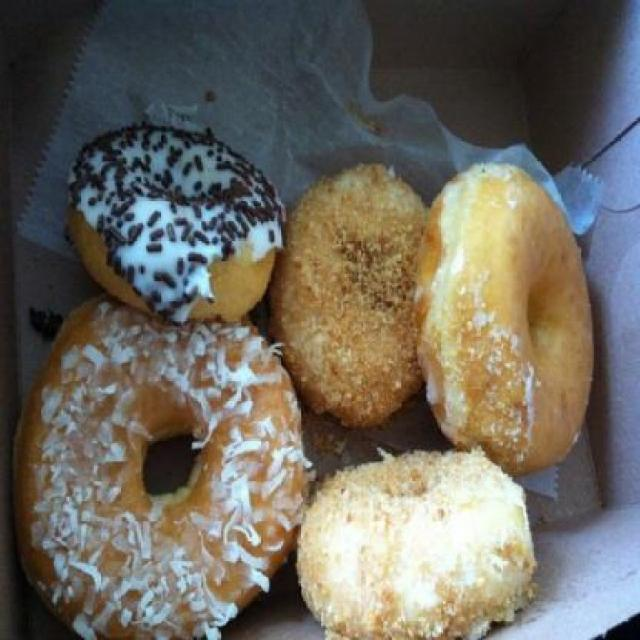Donuts: (27, 122, 596, 628)
